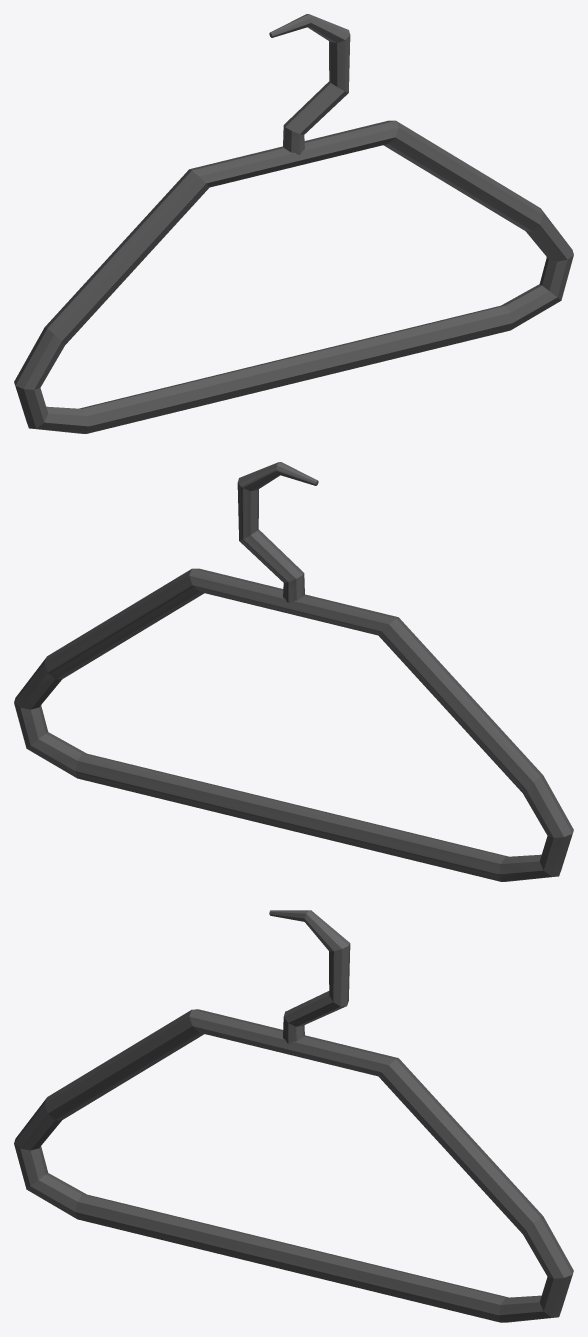
File: CoatHangar.fbx
The picture shows the model from 3 angles, top to bottom: view 1: azimuth 30°, elevation 25°; view 2: azimuth 150°, elevation 25°; view 3: azimuth 330°, elevation 25°; orthographic projection.
Parts seen in each view (by area): view 1: Cylinder, Cylinder.001; view 2: Cylinder, Cylinder.001; view 3: Cylinder, Cylinder.001.
Boxes of the visible parts, x1=… form: Cylinder: x1=14, y1=120, x2=573, y2=433; Cylinder.001: x1=269, y1=14, x2=350, y2=154; Cylinder: x1=14, y1=568, x2=573, y2=881; Cylinder.001: x1=237, y1=462, x2=318, y2=602; Cylinder: x1=14, y1=1009, x2=573, y2=1322; Cylinder.001: x1=269, y1=910, x2=350, y2=1043.
Bounding box in the file's own units: 4657 × 2911 × 200.
Materials: 1 (1 with a texture image).
